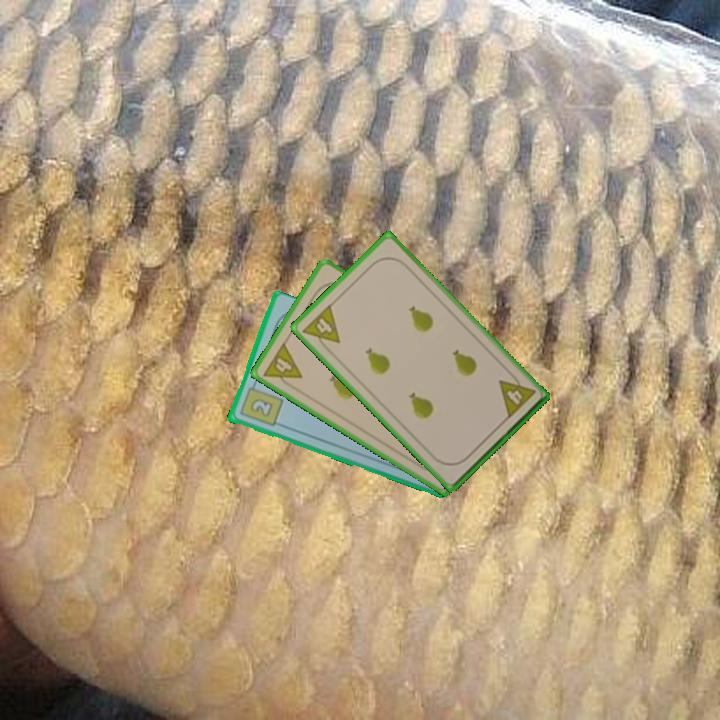2b: (236, 378, 285, 430)
4p: (260, 339, 305, 392), (299, 301, 343, 355), (495, 368, 538, 422)
